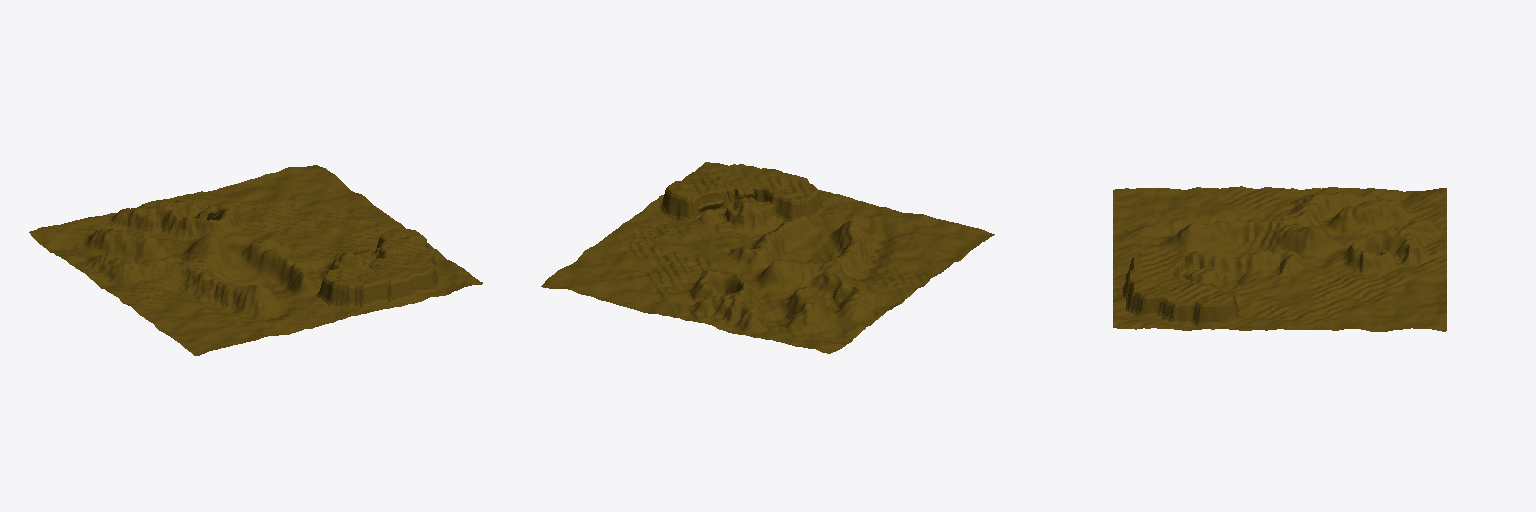
The model's file is sandDunes3.obj.
3 renders of one model, left to right at view 1: azimuth 30°, elevation 25°; view 2: azimuth 150°, elevation 25°; view 3: azimuth 270°, elevation 25°, orthographic.
Visible parts, largest first — view 1: Plane.001; view 2: Plane.001; view 3: Plane.001.
Part boxes in pixels (bbox=[...]): Plane.001: bbox=[29, 165, 482, 355]; Plane.001: bbox=[541, 162, 994, 353]; Plane.001: bbox=[1113, 186, 1446, 331].
Size of the model in its own units: 272 by 31.06 by 272.